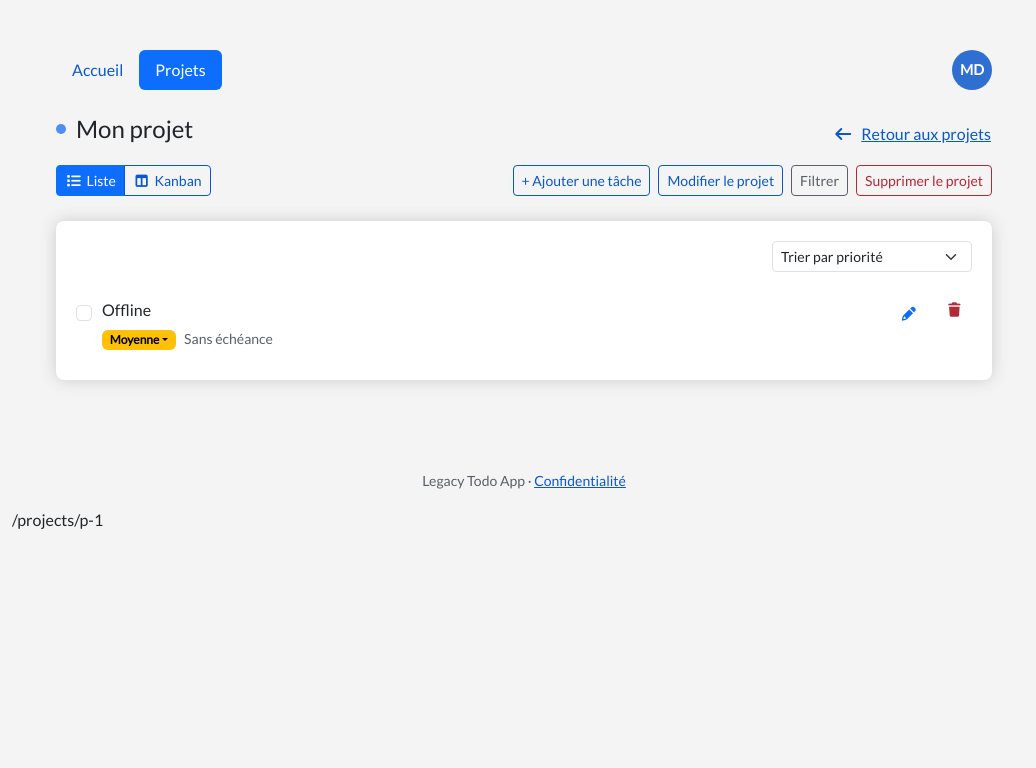
Test: toggling a task › a network failure while toggling is surfaced, not swallowed
Step 1. Click the checkbox → (84, 313), box [76,305,92,321]
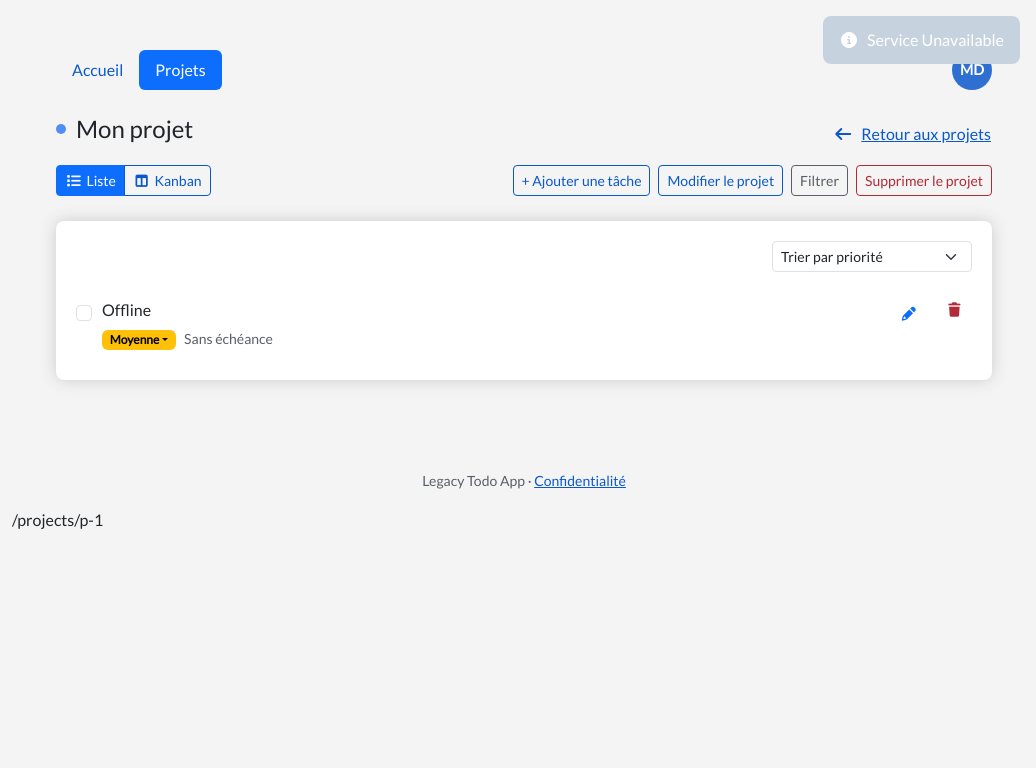
Result: the text "Service Unavailable" is shown at [867,30,1004,49]
